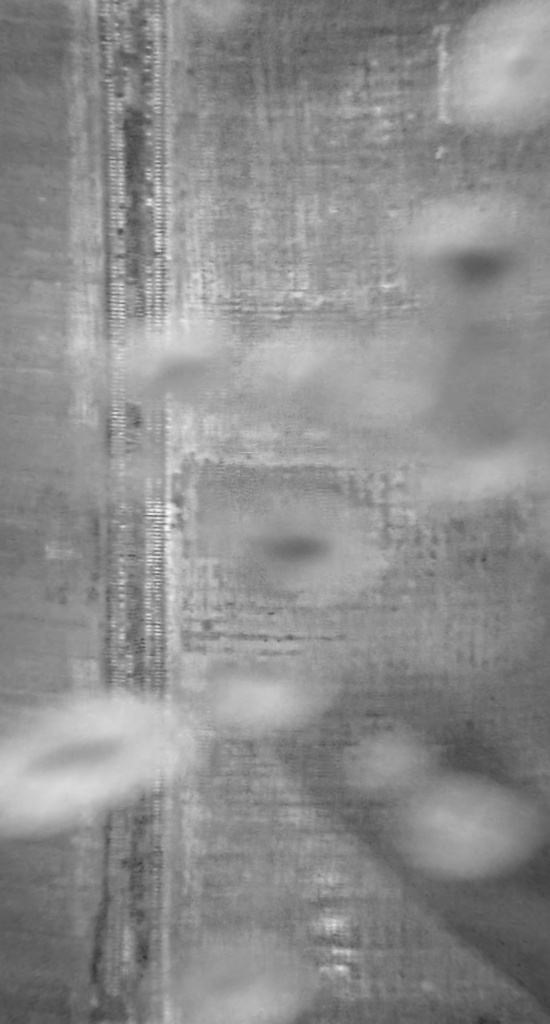splice: (88, 1, 185, 1024)
